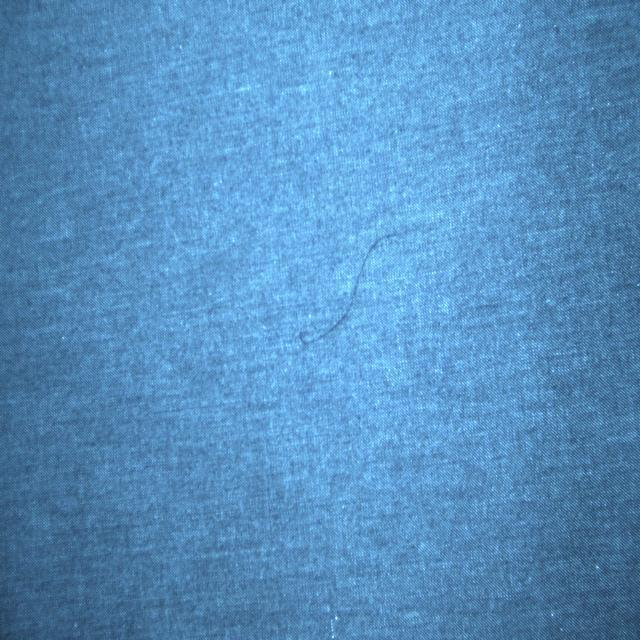defect: (291, 220, 433, 364)
